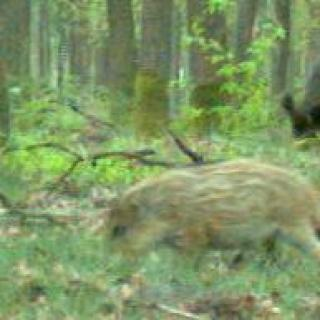Pig: (92, 154, 320, 268)
